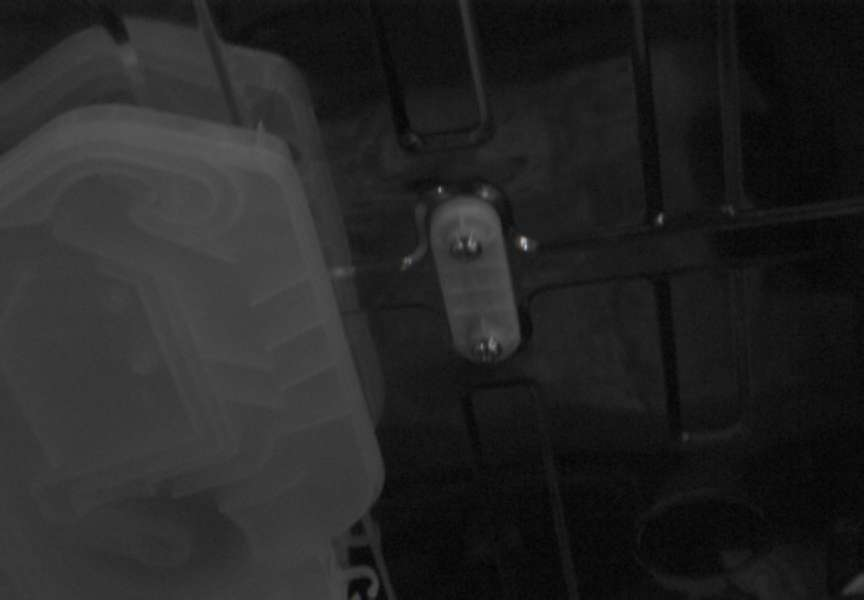screw: (450, 233, 483, 261), (471, 336, 503, 364)
